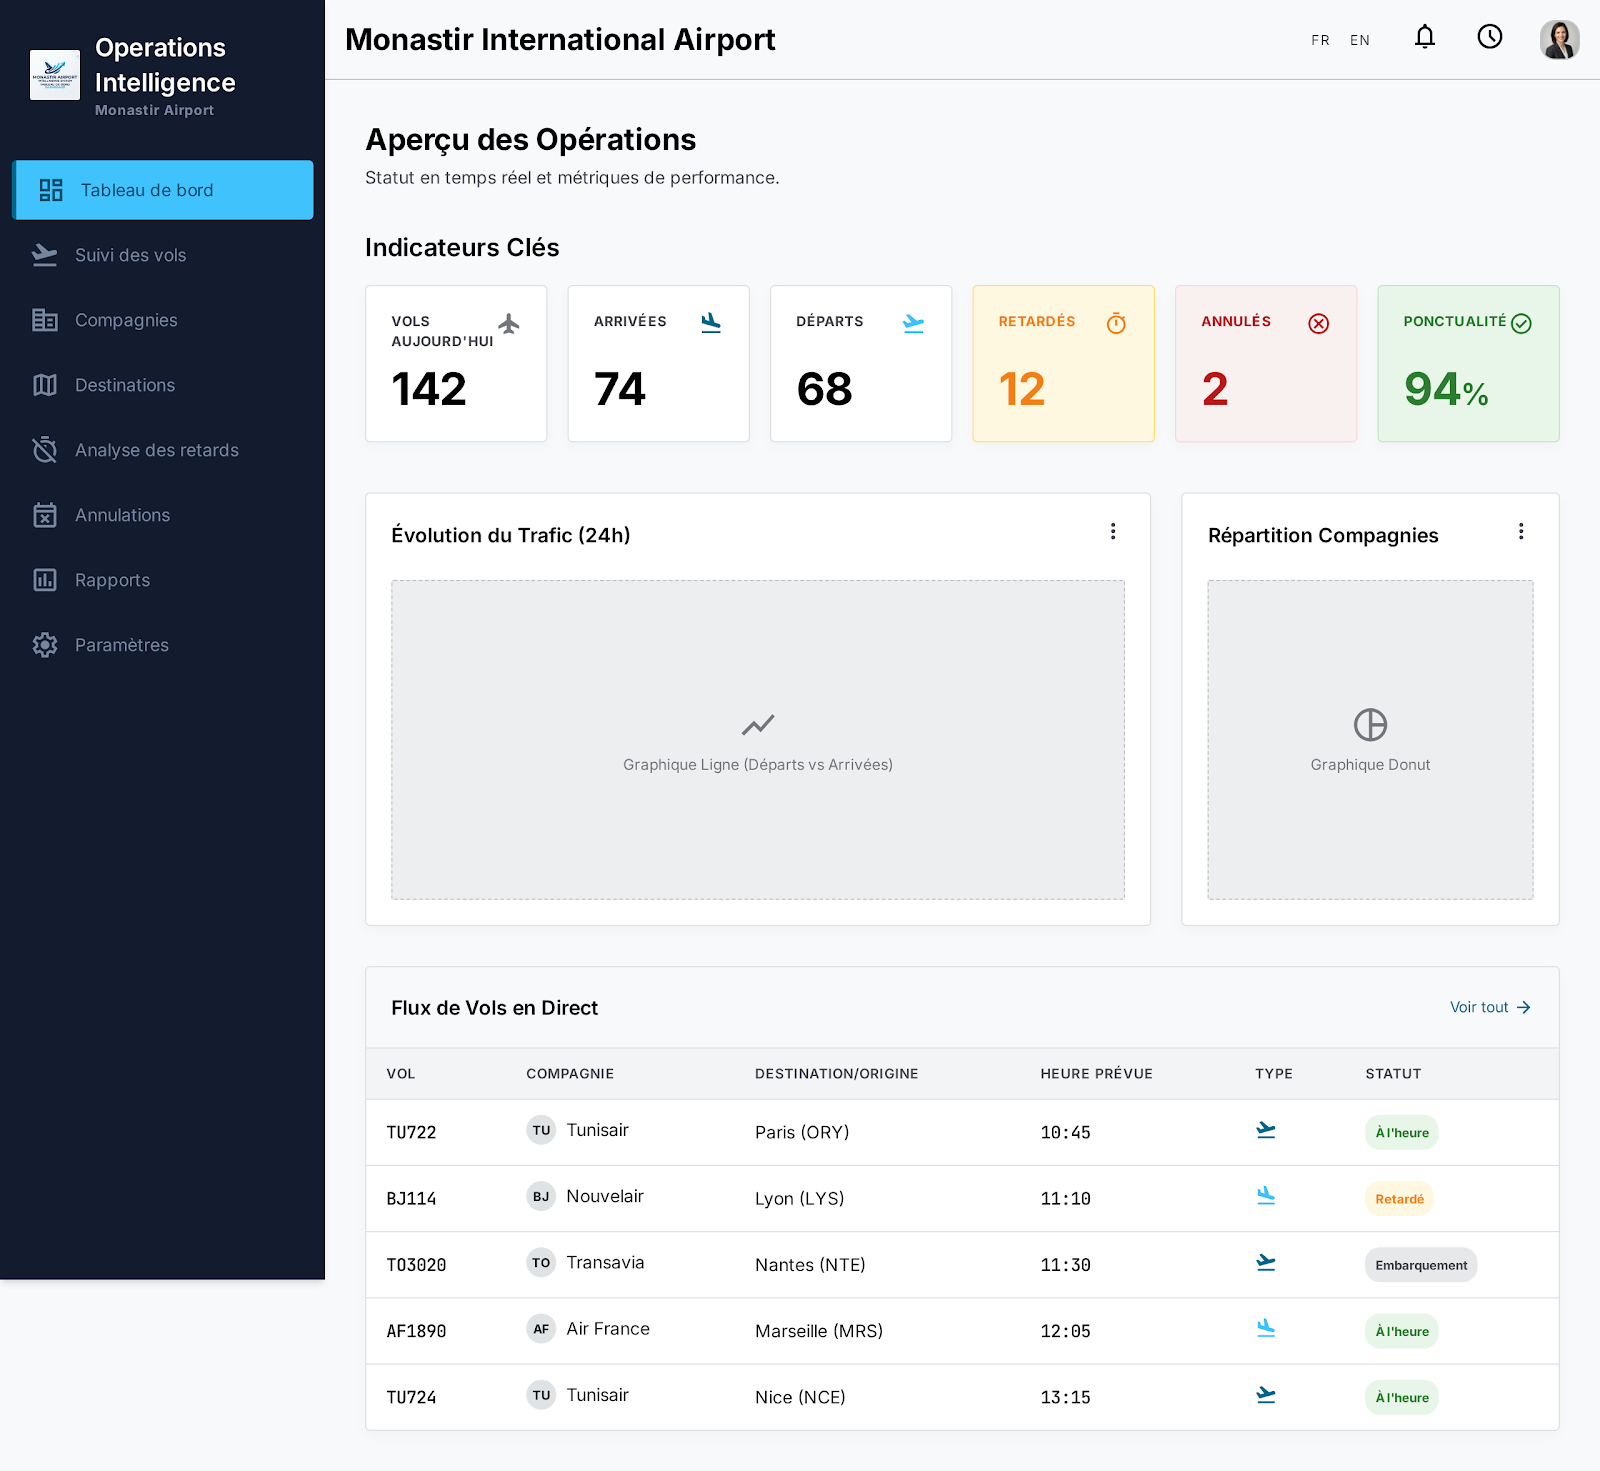

Layout of this report page (visuals, bound fields, positions):
{"tool":"powerbi","page":{"name":"Page 1","canvas":[1280,720],"ordinal":0},"visuals":[{"type":"cardVisual","fields":{"Data":["Vols.Nombre Retards"]},"box":[752.5,115.9,230.1,105.8],"z":0},{"type":"cardVisual","fields":{"Data":["Vols.Nombre Annulations"]},"box":[1004.5,115.9,248.6,105.8],"z":1000},{"type":"cardVisual","fields":{"Data":["Vols.Total Vols"]},"box":[493.9,112.5,216.7,109.2],"z":2000},{"type":"cardVisual","fields":{"Data":["Vols.Taux Ponctualité"]},"box":[238.5,115.9,225.1,105.8],"z":3000},{"type":"tableEx","title":"details de vols","fields":{"Values":["Vols.NumVol","Vols.Compagnie","Vols.Type","Vols.Destination","Vols.Heure","Vols.Statut","Vols.RetardMin"]},"box":[215,485.5,1053.2,225.1],"z":4000},{"type":"listSlicer","fields":{"Values":["Vols.Statut"]},"box":[16.8,547.6,198.2,149.5],"z":5000},{"type":"slicer","fields":{"Values":["Vols.Date"]},"box":[0,100.8,198.2,115.9],"z":6000},{"type":"slicer","fields":{"Values":["Vols.Compagnie"]},"box":[1.5,297.1,197.6,61.5],"z":7000},{"type":"slicer","fields":{"Values":["Vols.Destination"]},"box":[0,388,203.3,137.7],"z":8000},{"type":"image","box":[0,0,181.4,97.4],"z":9000},{"type":"image","box":[640,132.7,70.6,50.4],"z":10000},{"type":"image","box":[905.4,136.1,60.5,47],"z":11000},{"type":"cardVisual","fields":{"Data":["Vols.Nombre Arrivées"]},"box":[259,298.5,218,121.5],"z":12000},{"type":"cardVisual","fields":{"Data":["Vols.Nombre Départs"]},"box":[542.9,298.5,219.5,121.5],"z":13000},{"type":"donutChart","fields":{"Category":["Vols.Type"],"Y":["Vols.Total Vols"]},"box":[787.3,253.2,468.3,199],"z":14000},{"type":"slicer","fields":{"Values":["Vols.Type"]},"box":[0,207.8,197.6,90.7],"z":15000},{"type":"shape","box":[198.2,3.4,1053.2,70.6],"z":16000},{"type":"textbox","box":[215,15.1,1023,47],"z":17000}]}

Visuals, with their boxes on the page's 1280x720 design canvas (x1, y1, x2, y2). These are canvas units, not pixel positions in the 1600x1471 screenshot, which may show the page scaled, cropped or inside an application window:
cardVisual - Vols.Nombre Retards: <box>752,116,983,222</box>
cardVisual - Vols.Nombre Annulations: <box>1004,116,1253,222</box>
cardVisual - Vols.Total Vols: <box>494,112,711,222</box>
cardVisual - Vols.Taux Ponctualité: <box>238,116,464,222</box>
"details de vols" tableEx: <box>215,486,1268,711</box>
listSlicer - Vols.Statut: <box>17,548,215,697</box>
slicer - Vols.Date: <box>0,101,198,217</box>
slicer - Vols.Compagnie: <box>2,297,199,359</box>
slicer - Vols.Destination: <box>0,388,203,526</box>
image: <box>0,0,181,97</box>
image: <box>640,133,711,183</box>
image: <box>905,136,966,183</box>
cardVisual - Vols.Nombre Arrivées: <box>259,298,477,420</box>
cardVisual - Vols.Nombre Départs: <box>543,298,762,420</box>
donutChart - Vols.Type x Vols.Total Vols: <box>787,253,1256,452</box>
slicer - Vols.Type: <box>0,208,198,298</box>
shape: <box>198,3,1251,74</box>
textbox: <box>215,15,1238,62</box>
